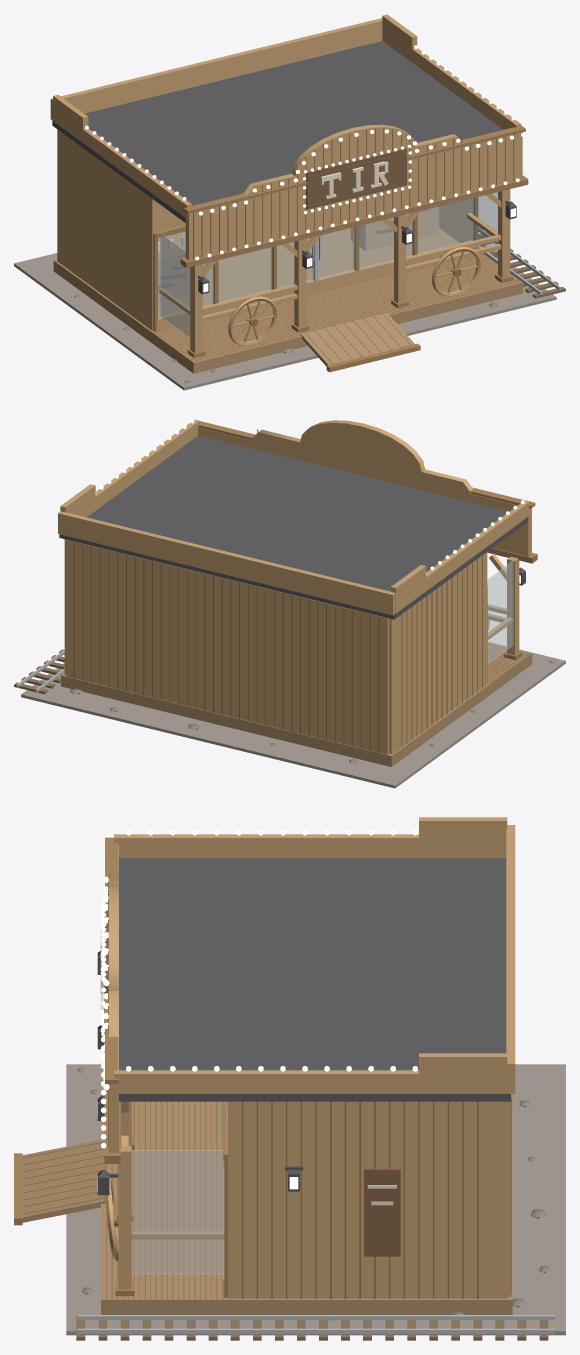
The picture shows the model from 3 angles, top to bottom: view 1: azimuth 30°, elevation 25°; view 2: azimuth 150°, elevation 25°; view 3: azimuth 270°, elevation 25°; orthographic projection. The views are drawn at different scales.
Parts seen in each view (by area): view 1: base; view 2: base; view 3: base.
Part boxes in pixels (x1,y1,x2,y2): base: (14, 14, 565, 390); base: (14, 419, 565, 788); base: (14, 817, 565, 1340).
Size of the model in its own units: 8.9 by 4.5 by 7.51.
